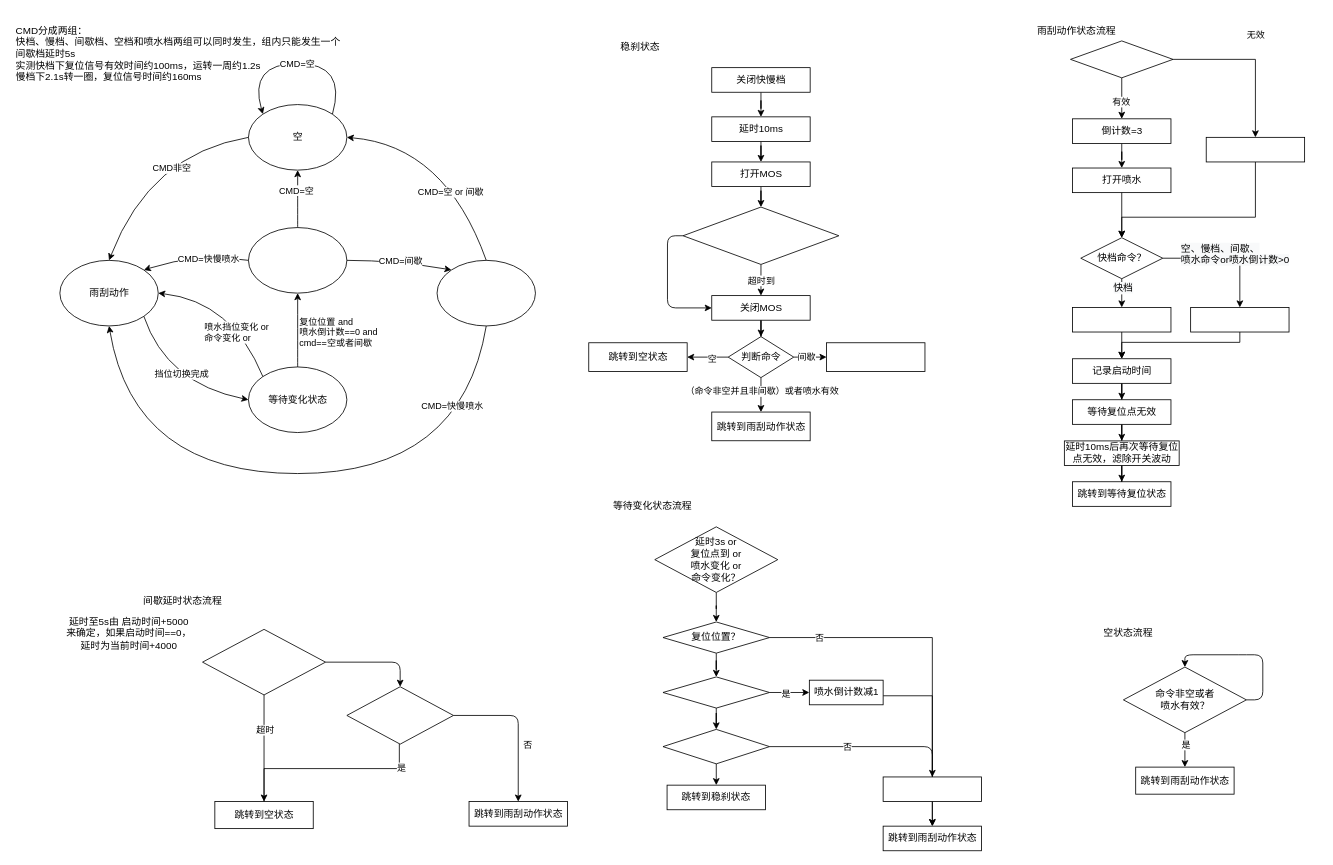
The diagram is 1333 pixels wide and 865 high, and some of its shapes have lost their labels. The shapes that lost their labels are listed below. From the top down, each one's centre as x and y in pixels, then its label:
At (x=1121, y=59): "喷水命令有效？".
At (x=1255, y=149): "关闭喷水".
At (x=760, y=235): "延时1s或者 命令非空非间歇或者 喷水有效".
At (x=297, y=260): "稳刹".
At (x=485, y=293): "间歇延时".
At (x=1121, y=319): "打开快档；关闭慢档".
At (x=1239, y=319): "打开慢档；关闭快档".
At (x=875, y=356): "转到间歇延时状态".
At (x=264, y=662): "延时到5s或者 命令非间歇或者 喷水有效".
At (x=716, y=692): "倒计数>0?".
At (x=399, y=715): "空命令？".
At (x=716, y=746): "空或者间歇命令？".
At (x=932, y=789): "记录喷水和命令变化".
